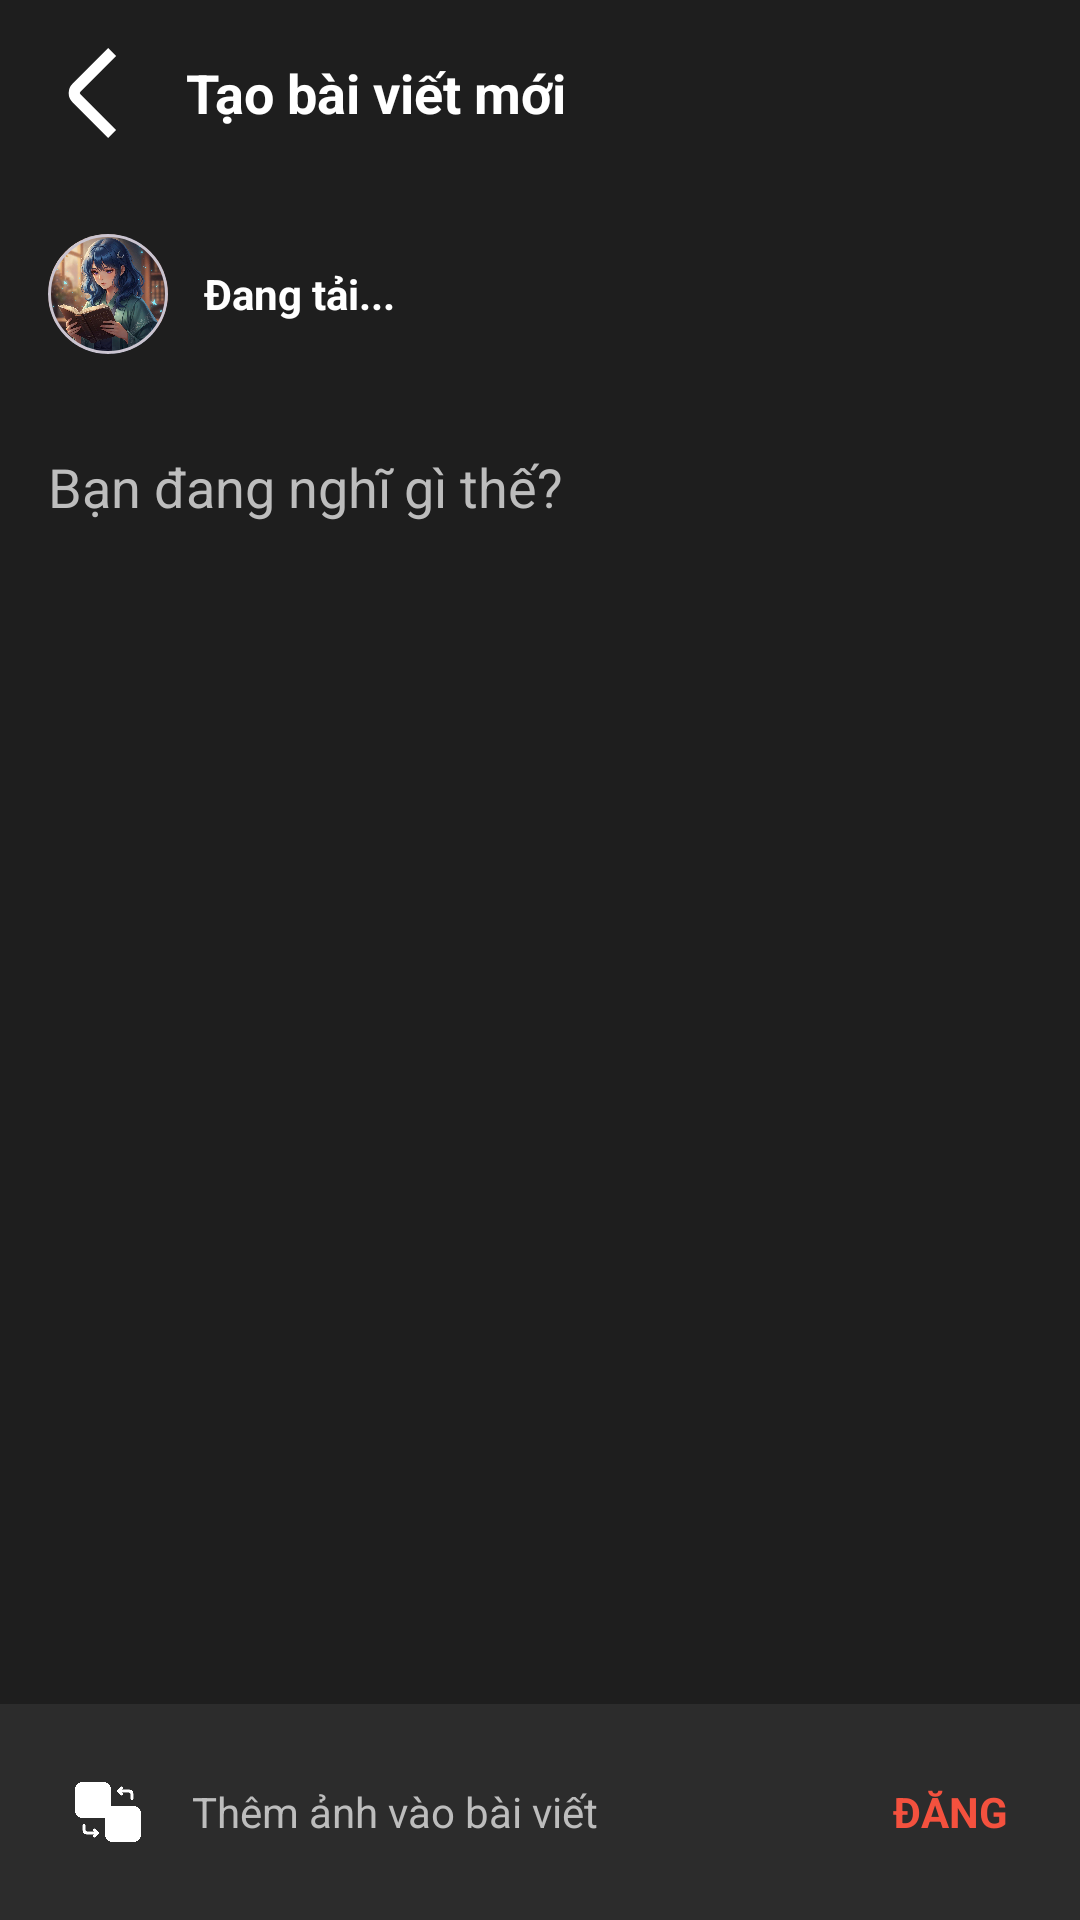

Locate icon controls on the screen. Image size 1080x1920, boxes as (x1, y1, x2, y2).
back: (68, 48, 116, 138)
